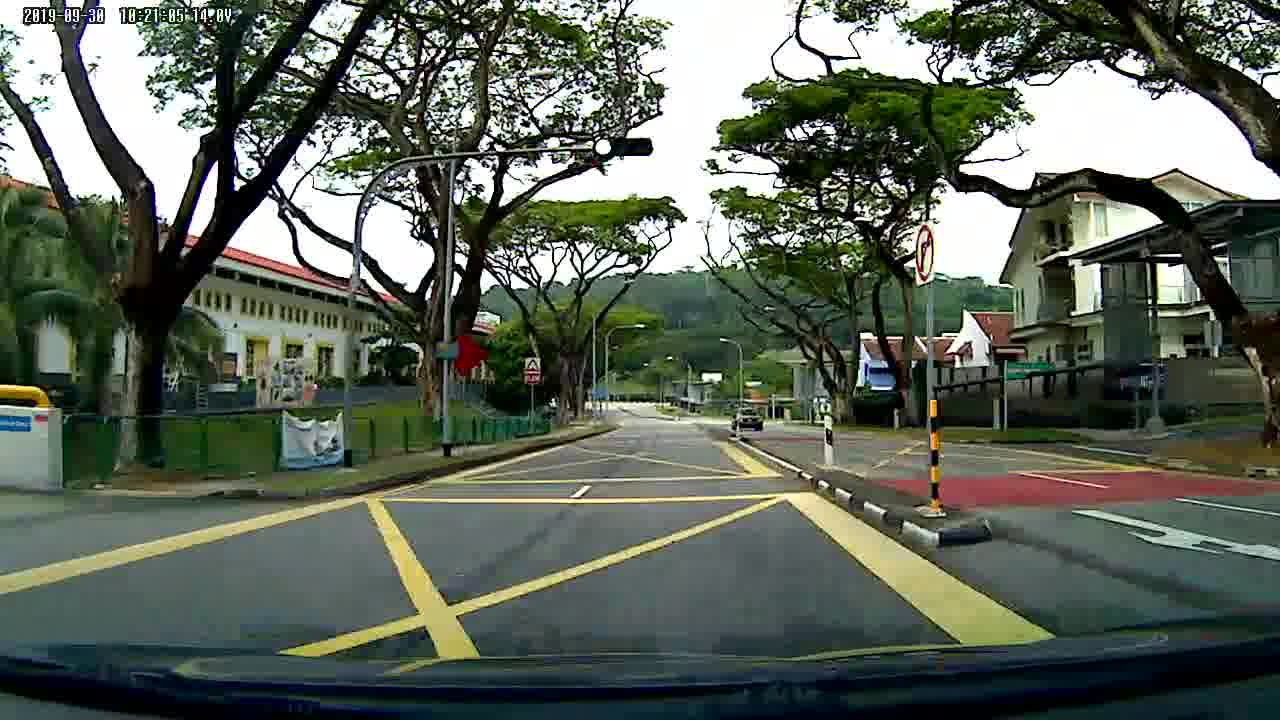car: (729, 405, 766, 429)
